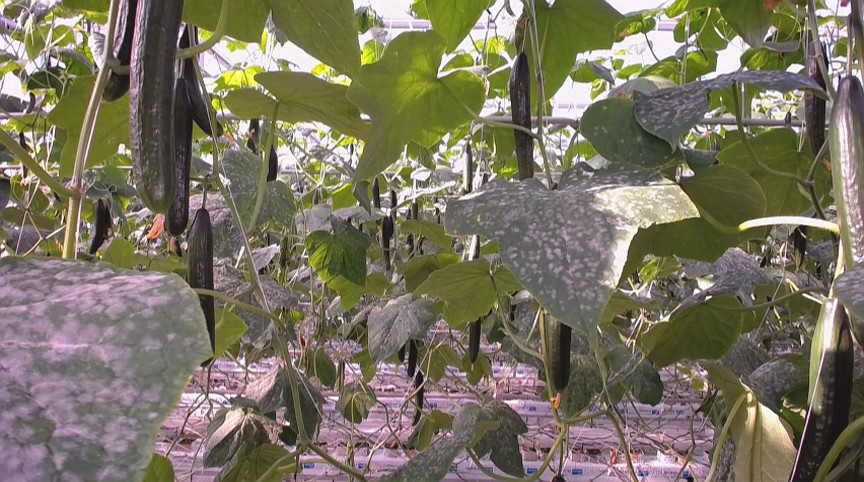cucumber: (128, 1, 176, 213), (800, 298, 852, 465), (829, 76, 864, 266), (165, 80, 193, 235), (186, 211, 216, 349), (103, 1, 140, 102), (510, 52, 537, 183), (544, 311, 572, 394), (806, 47, 827, 154), (467, 317, 482, 362)
